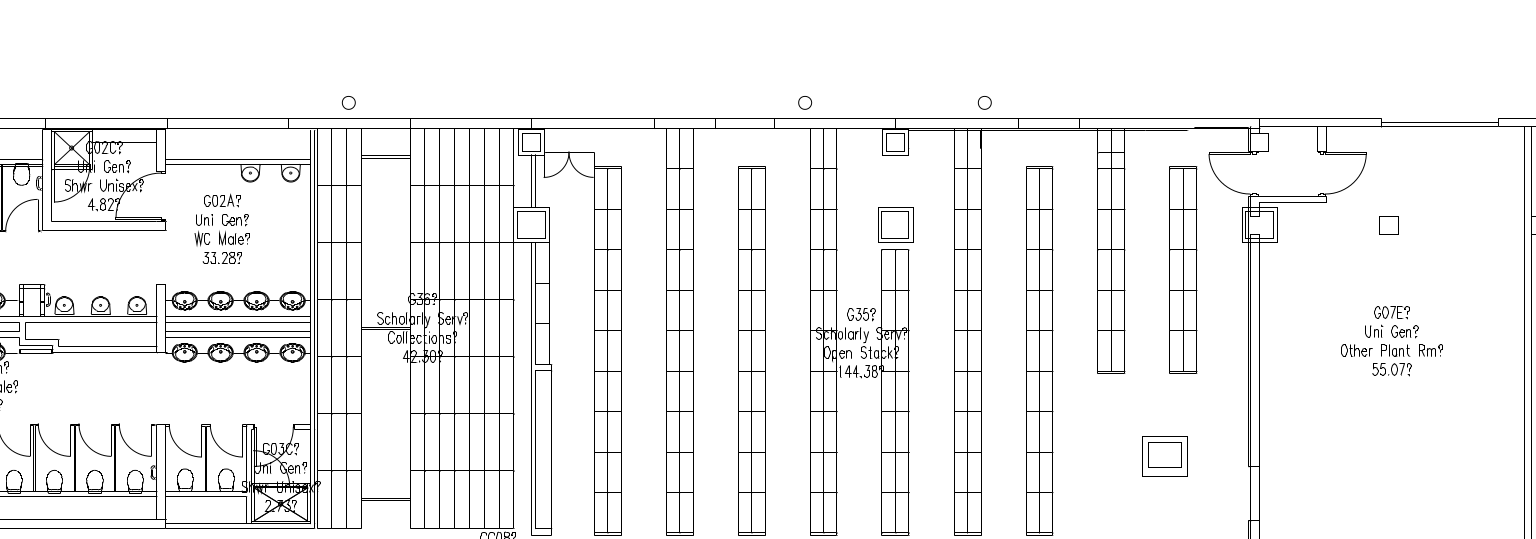door: (108, 168, 162, 221), (1205, 145, 1255, 200), (1327, 145, 1377, 200), (540, 147, 597, 190), (3, 193, 40, 236), (256, 447, 297, 484), (119, 426, 153, 458), (38, 428, 71, 460), (80, 428, 113, 460), (170, 428, 203, 460), (209, 426, 242, 458), (1, 429, 33, 461)
